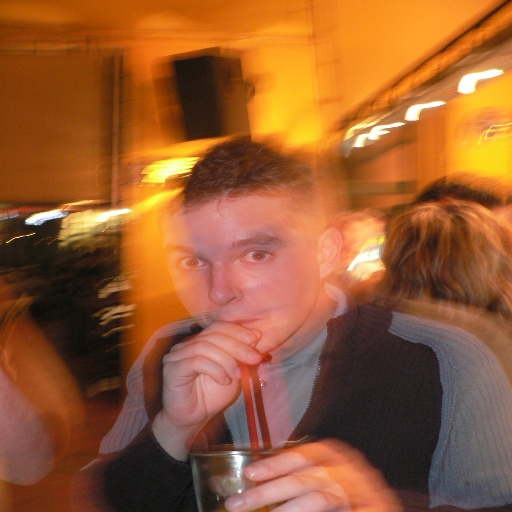hand: (206, 440, 394, 511), (157, 320, 265, 429)
